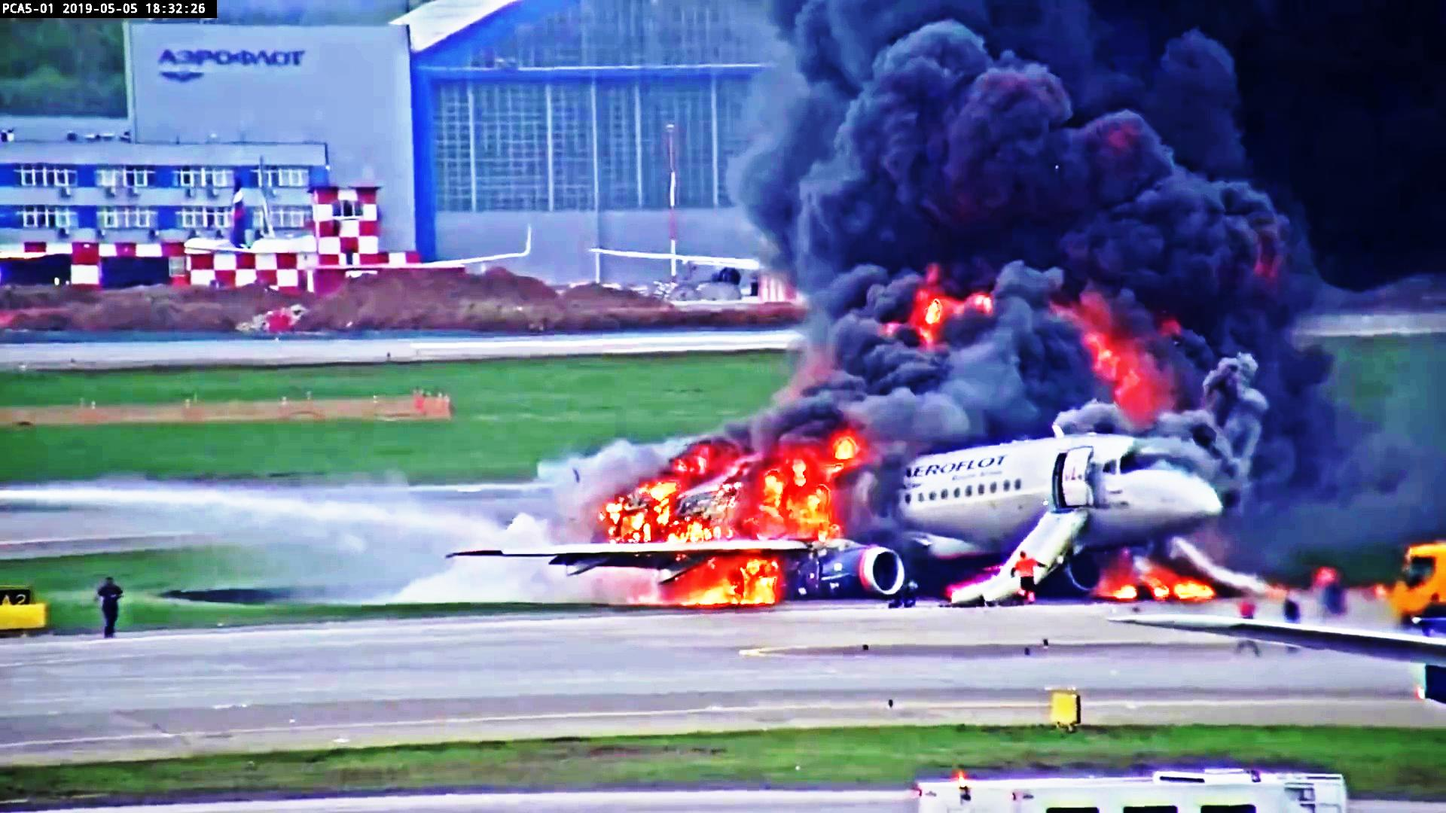fire: (759, 445, 861, 538), (703, 569, 785, 605)
smoke: (786, 14, 1331, 317)
